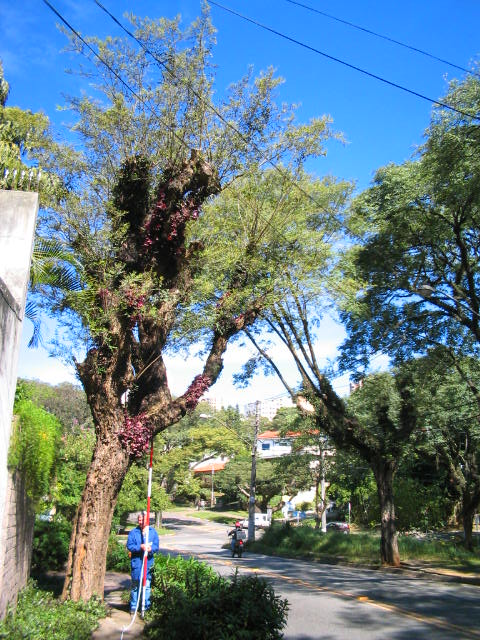crown: (37, 6, 356, 343)
stem: (54, 412, 139, 616)
stick: (137, 435, 160, 617)
tree: (32, 3, 357, 618)
